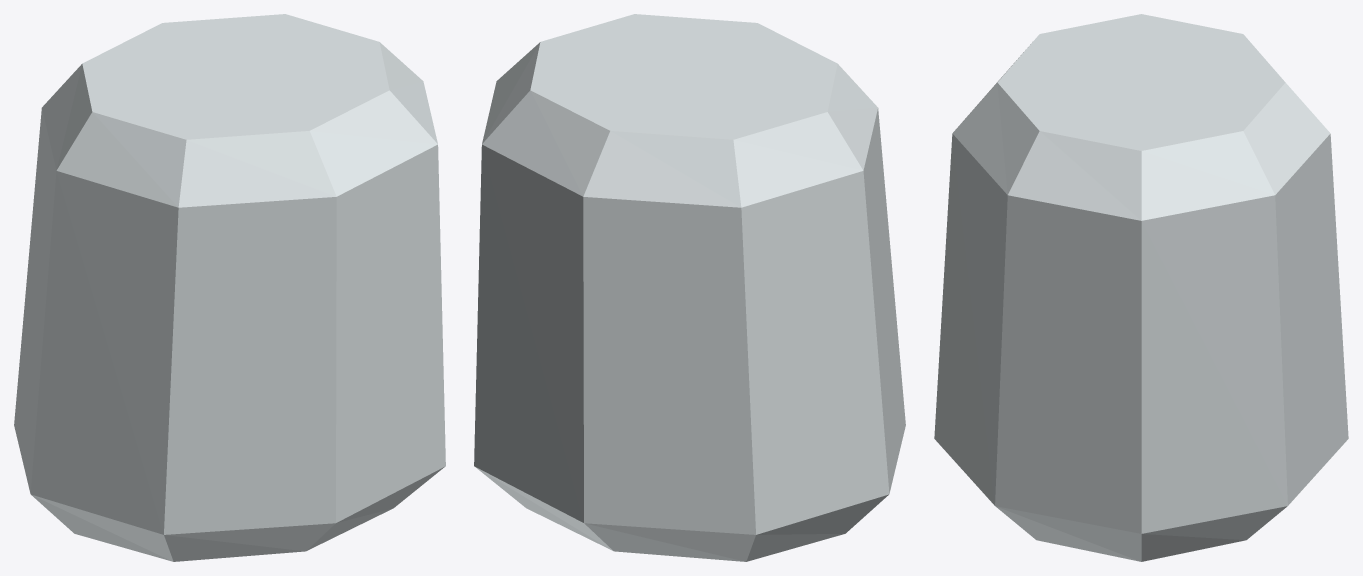
File: ice_slab.obj
The picture shows the model from 3 angles, left to right: view 1: azimuth 30°, elevation 25°; view 2: azimuth 150°, elevation 25°; view 3: azimuth 270°, elevation 25°; orthographic projection. The views are drawn at different scales.
Visible parts, largest first — view 1: ice_slab; view 2: ice_slab; view 3: ice_slab.
Part boxes in pixels (box(x1,y1,x2,y2)): ice_slab: box(14, 14, 445, 561); ice_slab: box(474, 14, 905, 561); ice_slab: box(934, 14, 1348, 561).
Bounding box in the file's own units: 1 × 1 × 0.92.
